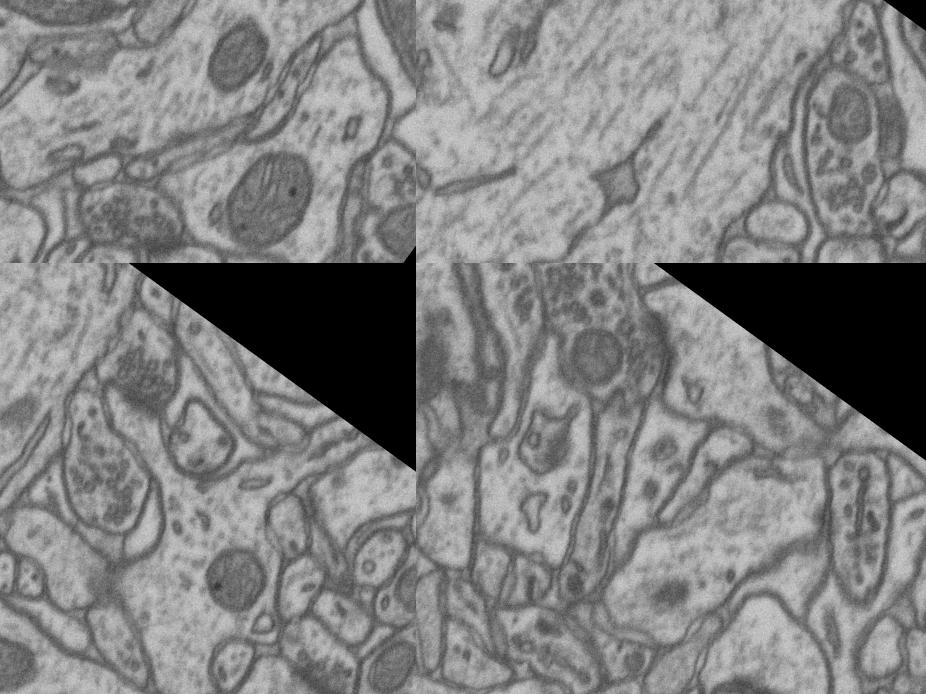mitochondria: (208, 133, 334, 263), (177, 513, 303, 641), (795, 62, 901, 168), (546, 306, 648, 410), (193, 9, 283, 102), (340, 0, 416, 102), (0, 0, 116, 62), (511, 0, 704, 28), (341, 627, 416, 694), (363, 182, 416, 263), (370, 540, 416, 629), (0, 592, 39, 694)
